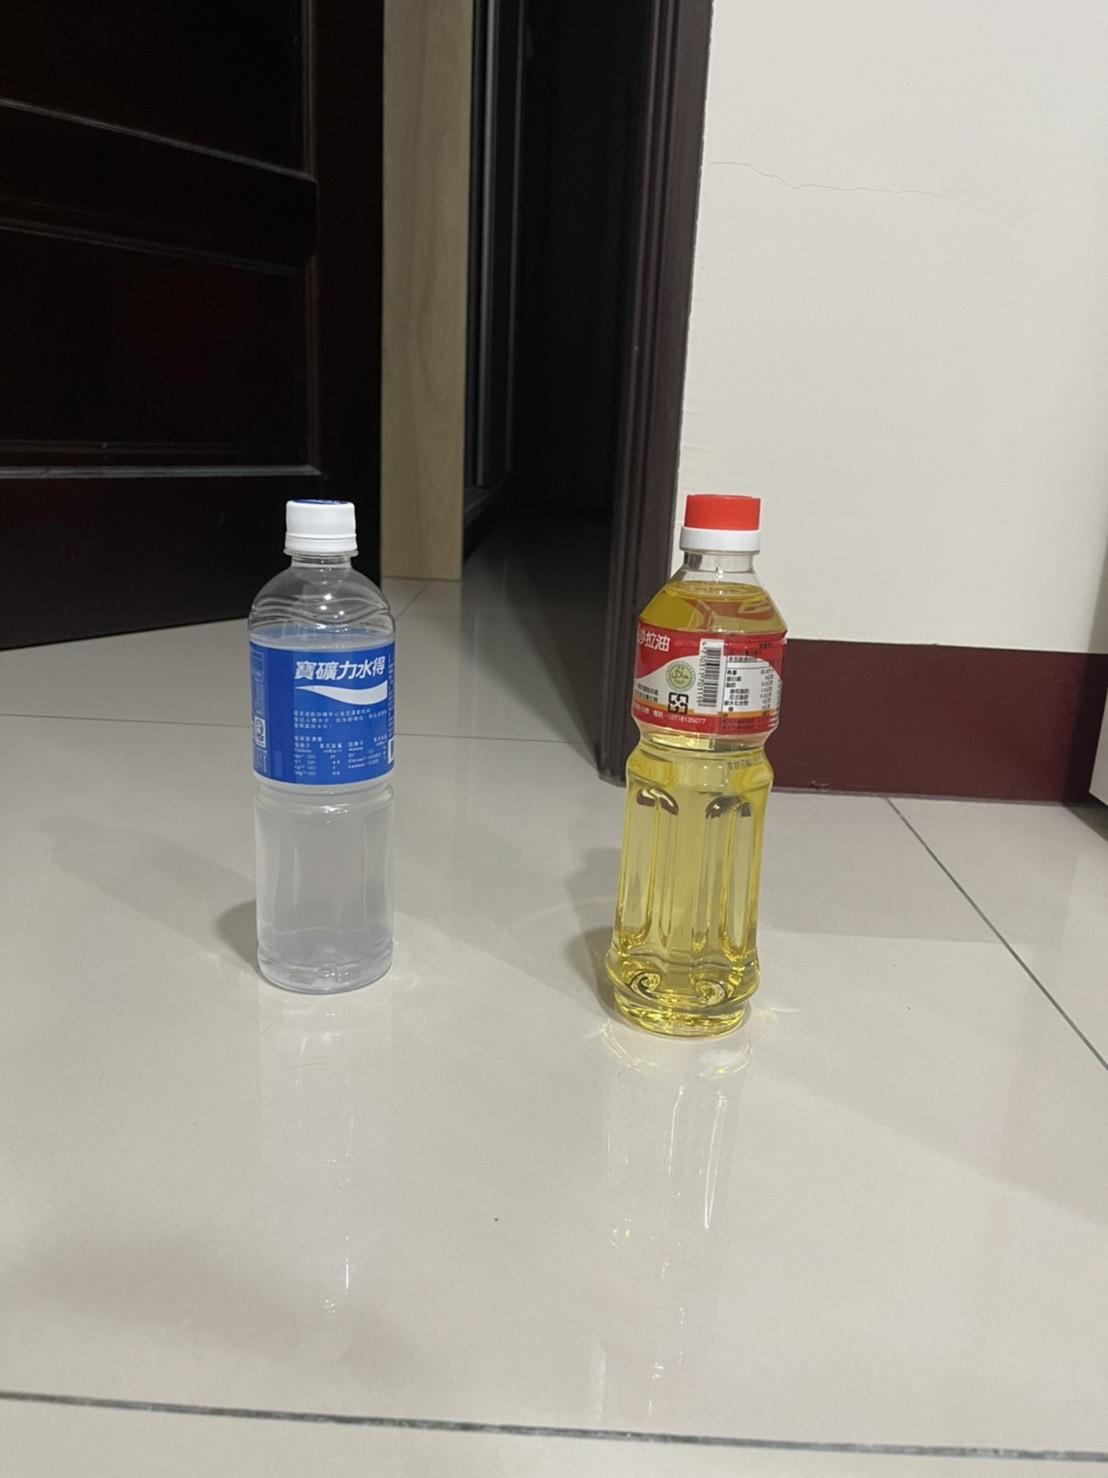bottle: (576, 0, 797, 313), (232, 0, 413, 225)
